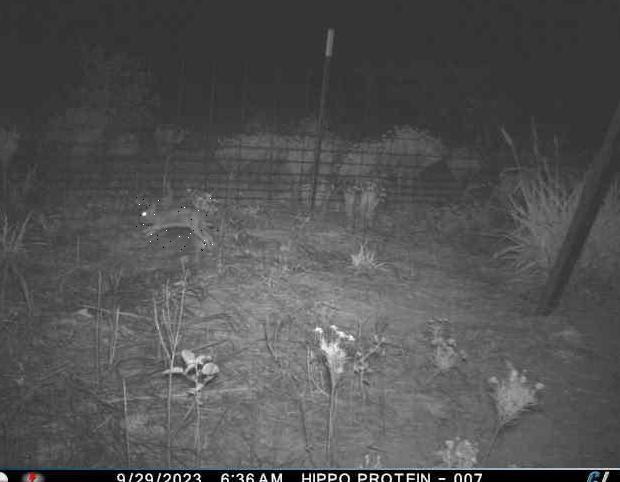Rabbit: (136, 197, 220, 251)
